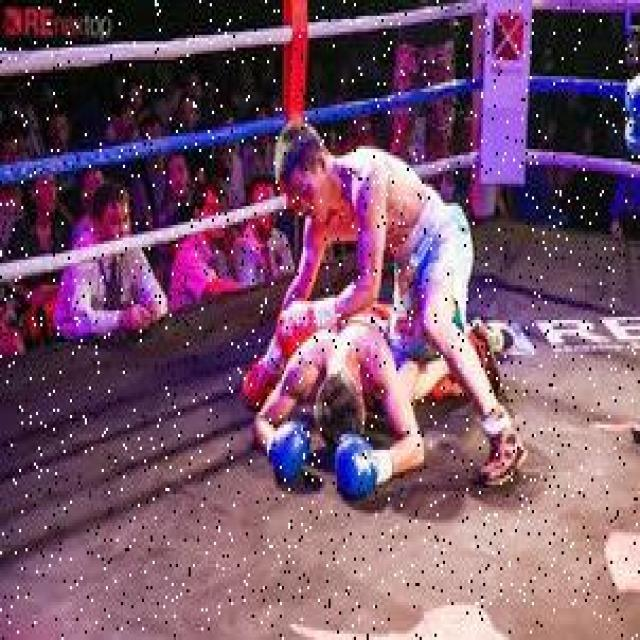fall: (265, 314, 456, 478)
